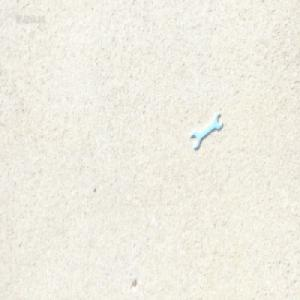Wrench: (191, 113, 222, 149)
